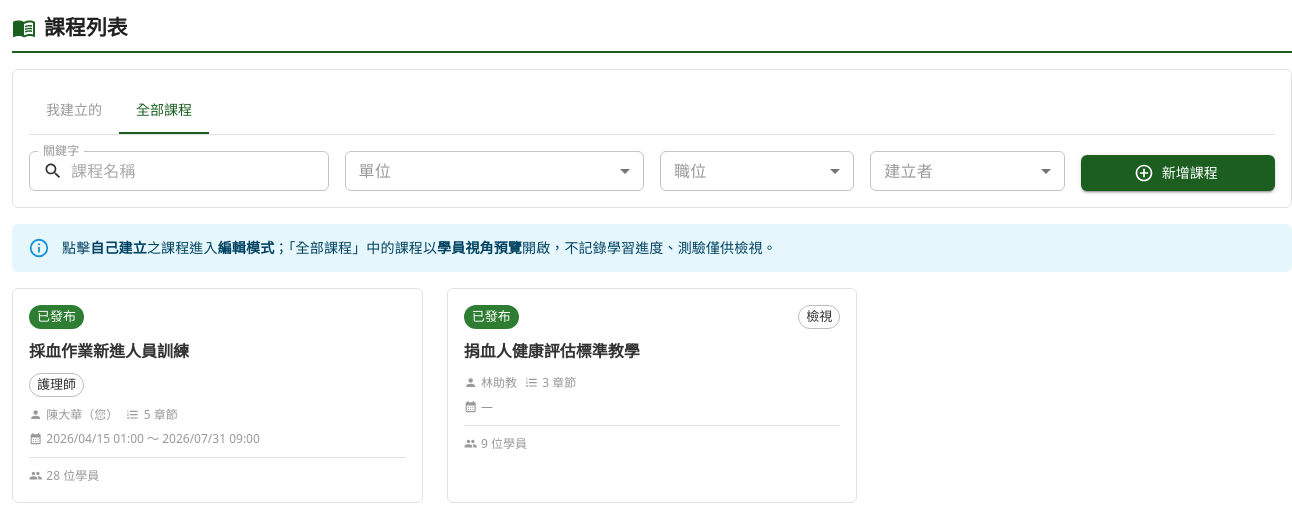
課程列表：建立者下拉的選項來源（#648） › 停用帳號的建立者標示「（已停用帳號）」
Expected: the heading "採血作業新進人員訓練" is shown, left=29, top=340, right=189, bottom=362
Click the dropdown named "建立者" next to "建立者": coordinates (967, 171) left=870, top=151, right=1065, bottom=191
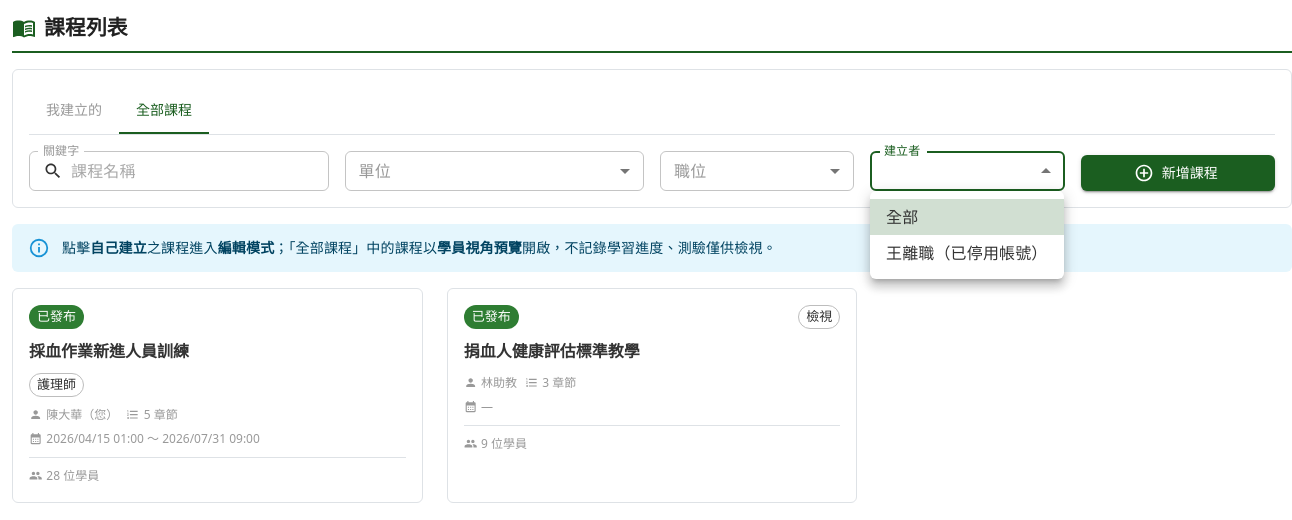
Now the option "王離職（已停用帳號）" is shown, box left=886, top=242, right=1048, bottom=264
